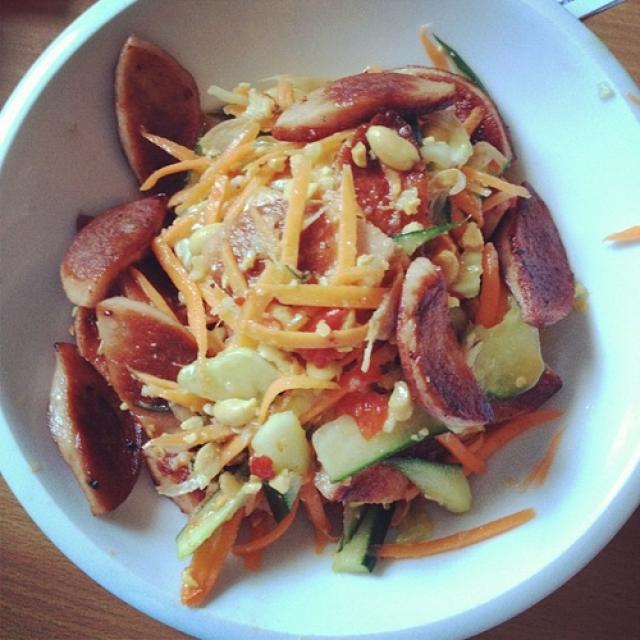蔬菜料理: (29, 23, 606, 602)
